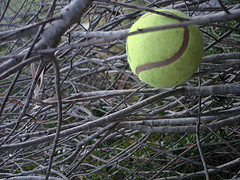tennis ball: (126, 8, 204, 89)
